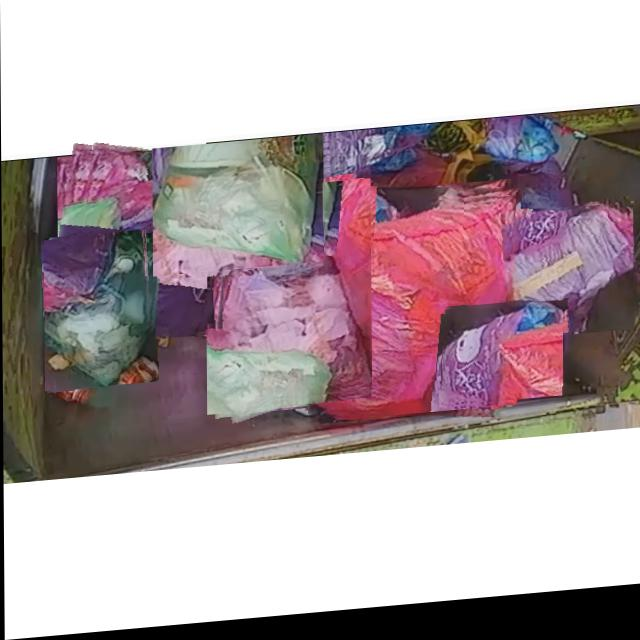general_trashbag: (153, 141, 321, 269), (45, 234, 152, 388)
other_trashbag: (311, 203, 515, 423), (215, 189, 371, 398), (85, 144, 206, 341), (509, 216, 632, 349), (443, 310, 562, 410), (226, 311, 332, 412)
